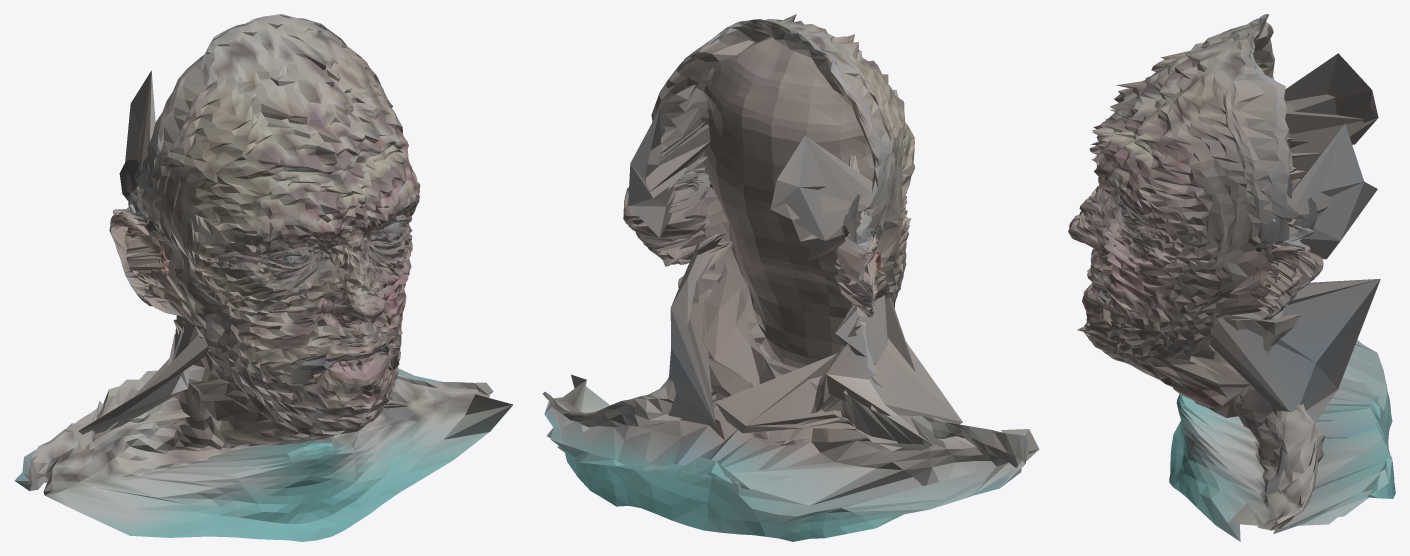
File: me_textured_mesh_display.obj
3 renders of one model, left to right at view 1: azimuth 30°, elevation 25°; view 2: azimuth 150°, elevation 25°; view 3: azimuth 270°, elevation 25°, orthographic. The views are drawn at different scales.
Size of the model in its own units: 0.3271 by 0.3176 by 0.2097.
